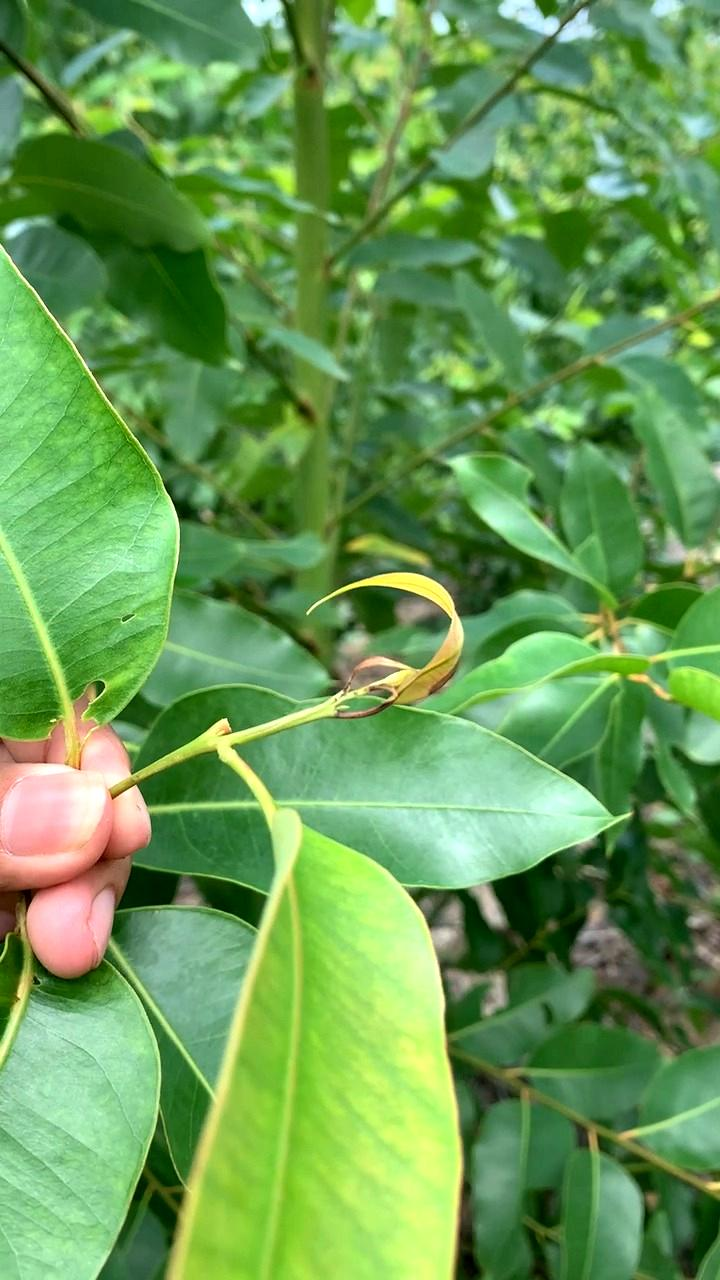Helopeltis-Withered Sprout: (303, 568, 471, 707)
